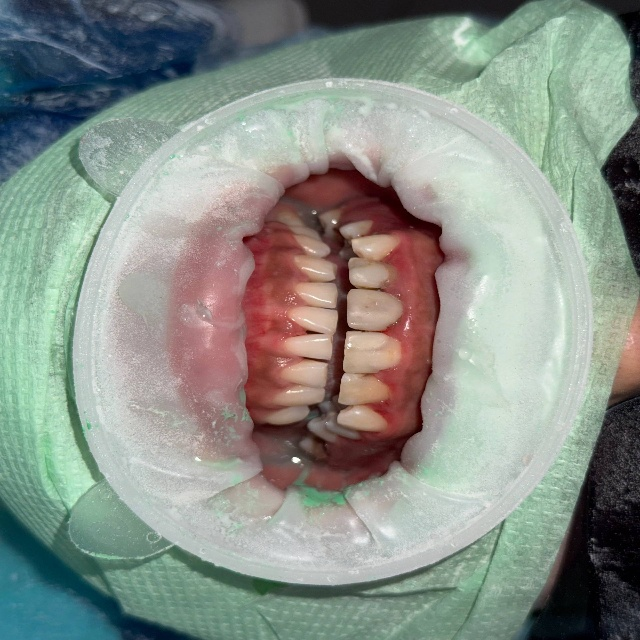clean_tooth: (445, 388, 511, 455), (436, 202, 508, 252), (252, 333, 300, 403), (245, 124, 310, 163), (242, 472, 296, 515), (243, 291, 290, 328), (7, 313, 38, 365), (205, 156, 249, 187), (349, 159, 394, 188), (473, 283, 499, 325), (298, 506, 330, 536), (256, 258, 290, 286), (359, 493, 389, 523), (251, 235, 287, 256), (313, 363, 349, 383)
plaque: (376, 0, 639, 180)
